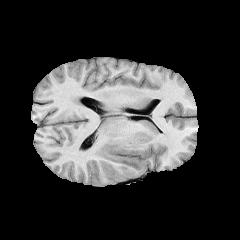glioma: (95, 140, 144, 174)
